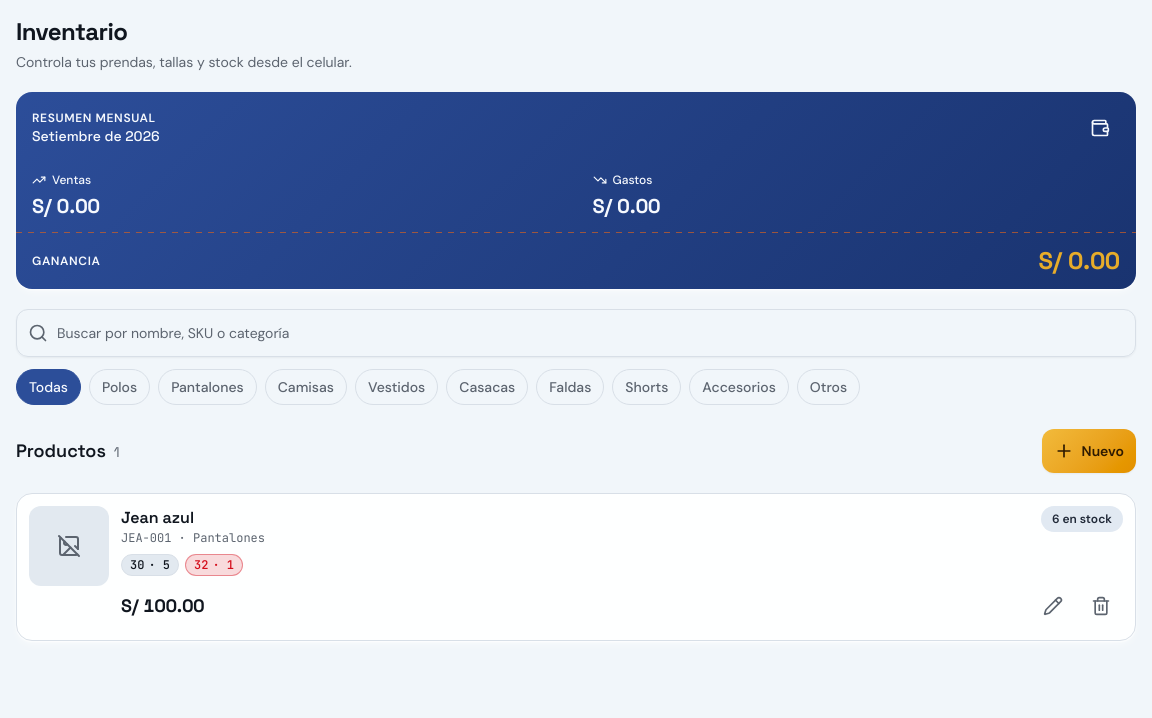
Test case: Inventario › guarda un producto nuevo con nombre, categoría, precios y stock
Click the button with test id "inventario.open_modal_button": (1089, 451) [1042,429,1136,473]
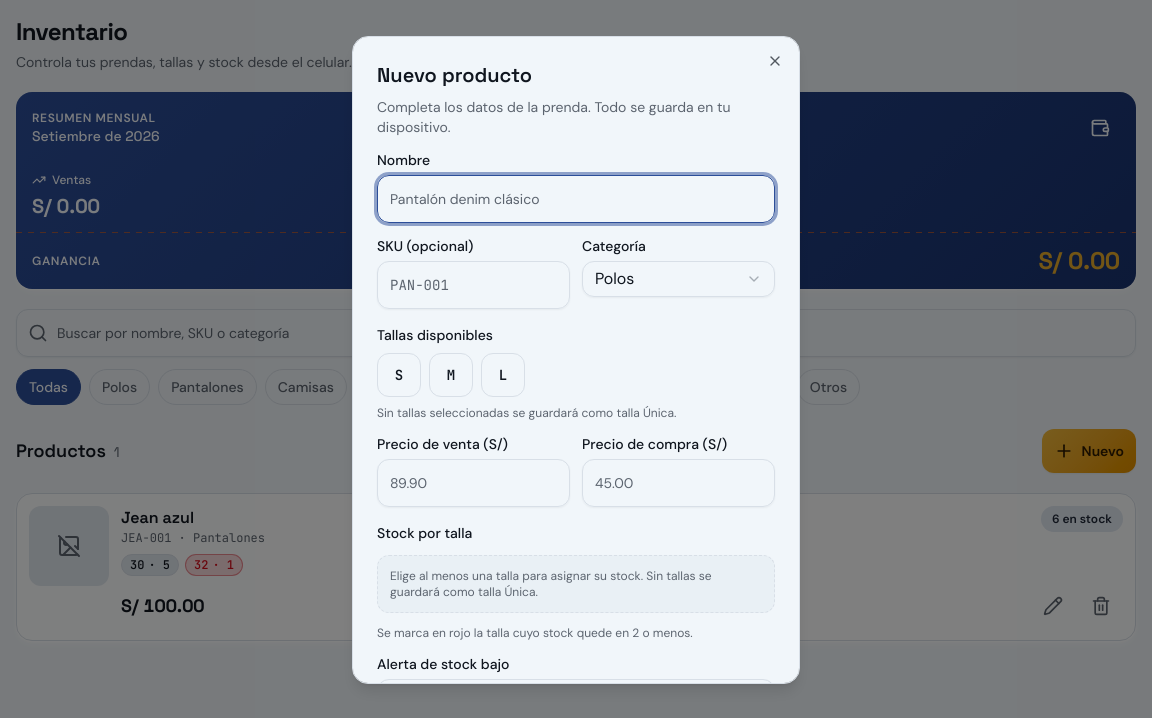
In the field with test id "inventario.nombre.input": (576, 199) [377,175,775,223], type "Casaca"
In the field with test id "inventario.precio.input": (474, 483) [377,459,570,507], type "150"
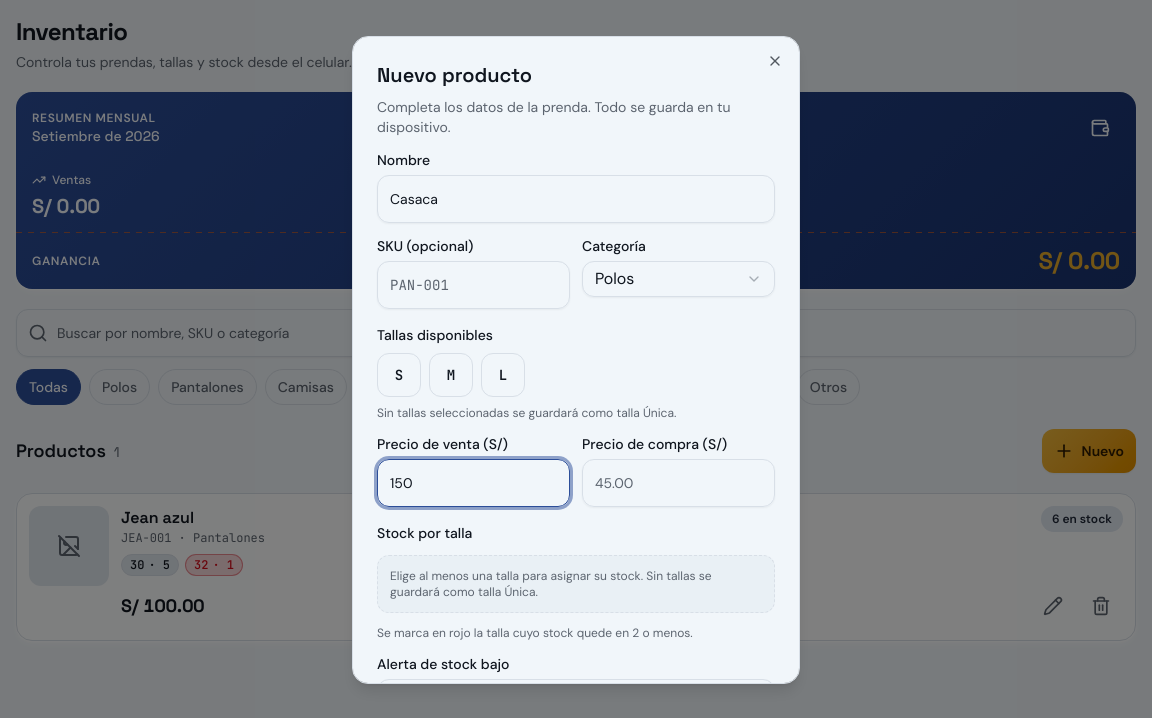
In the field with test id "inventario.costo.input": (678, 483) [582,459,775,507], type "80"
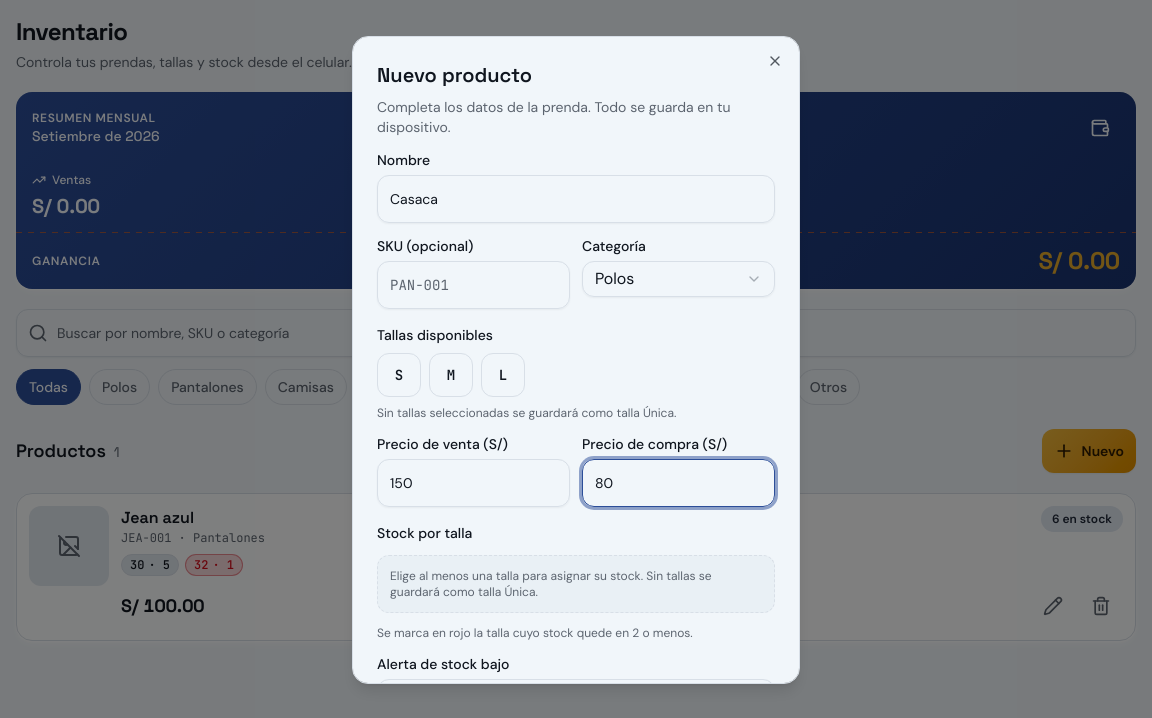
Click the button with test id "inventario.talla.toggle.S": (399, 375) [377,353,421,397]
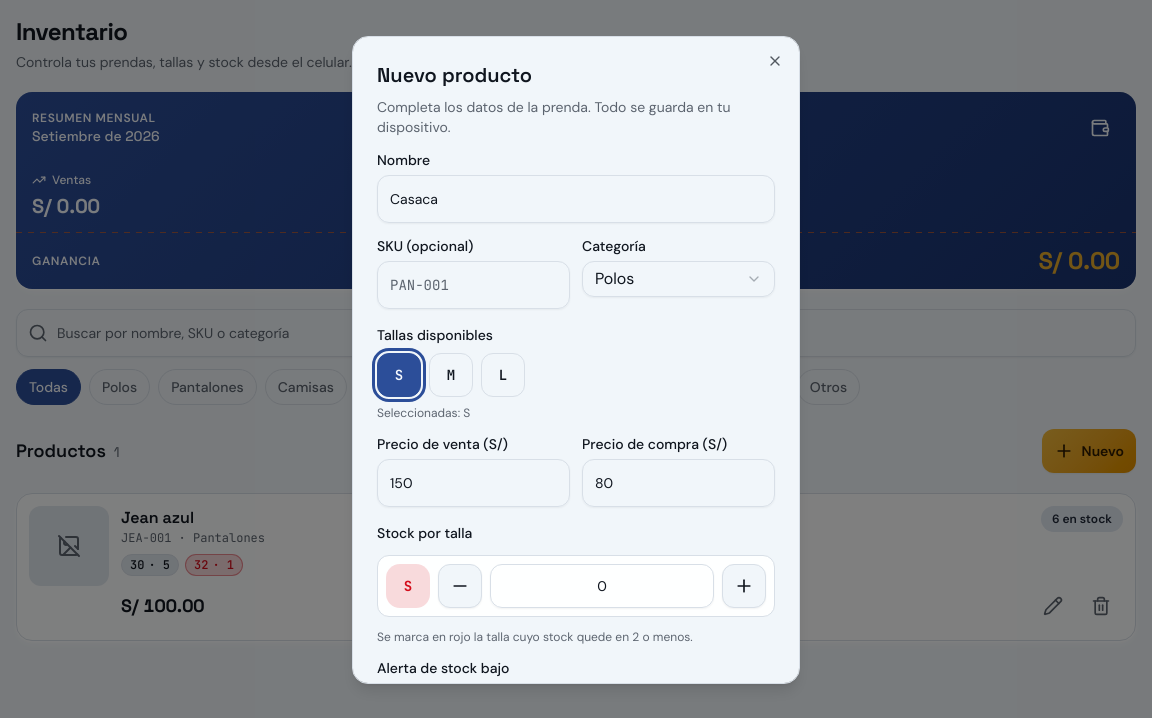
Click the button with test id "inventario.stock_mas_button.S": (744, 586) [722,564,766,608]
(page scrolled)
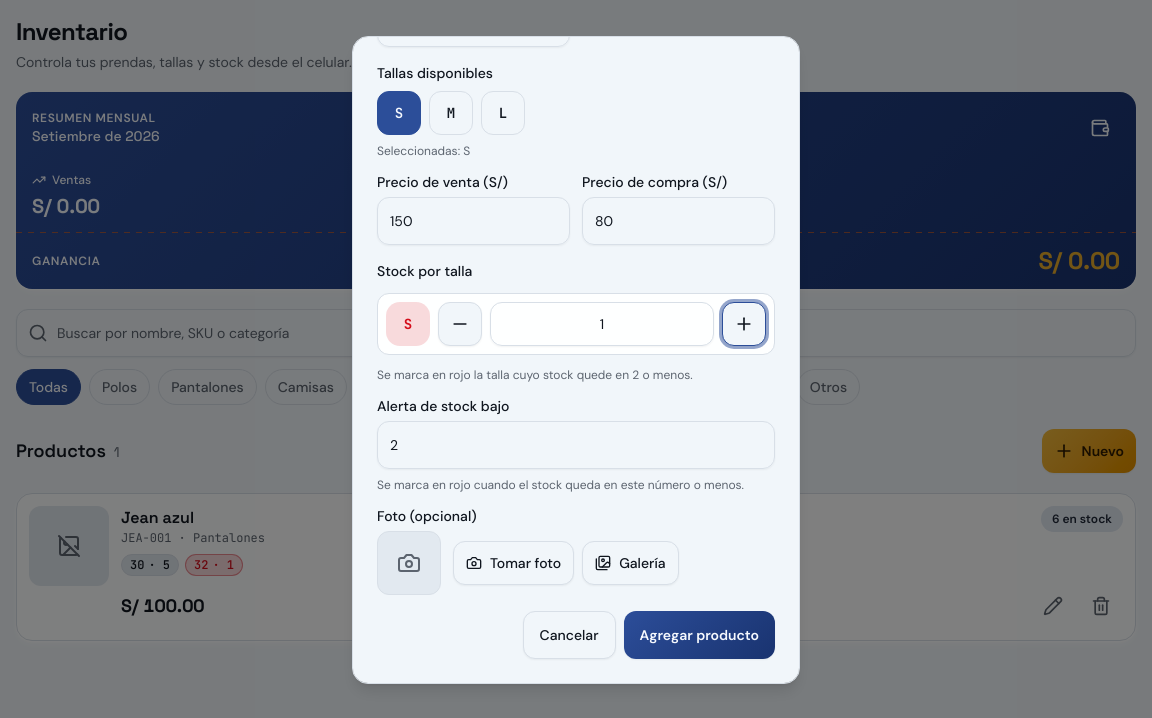
Click the button with test id "inventario.save_button": (699, 635) [624,611,775,659]
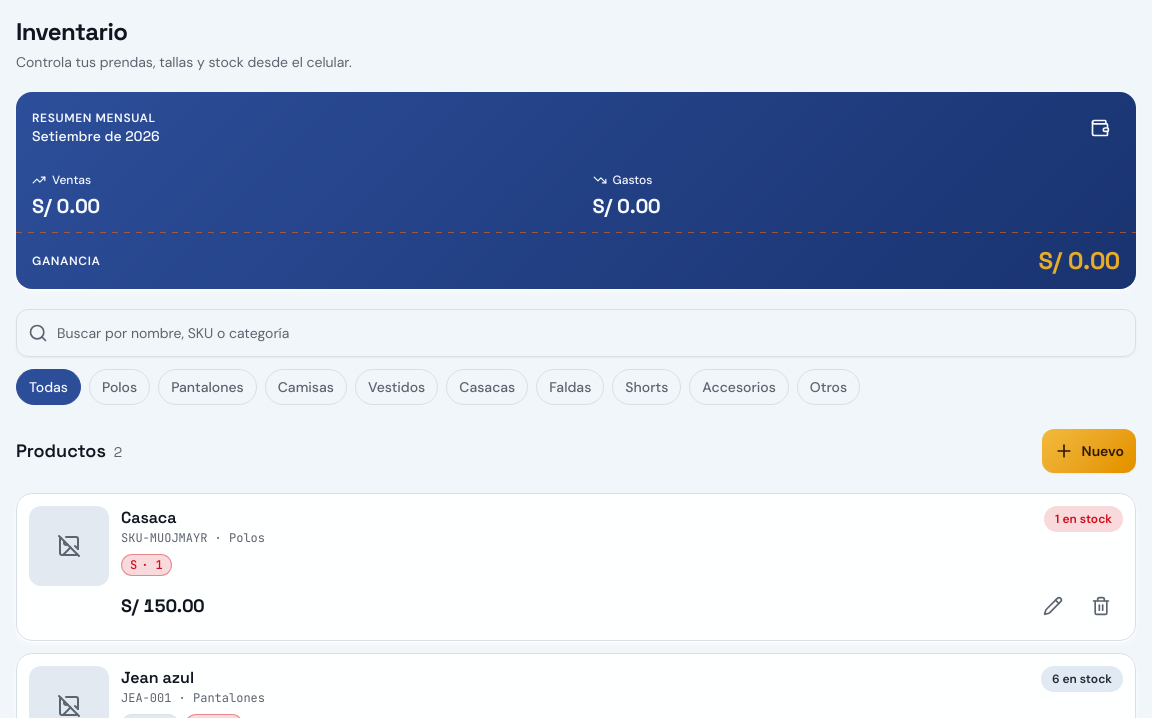
Result: the heading "Casaca" is shown at [121,507,176,528]
